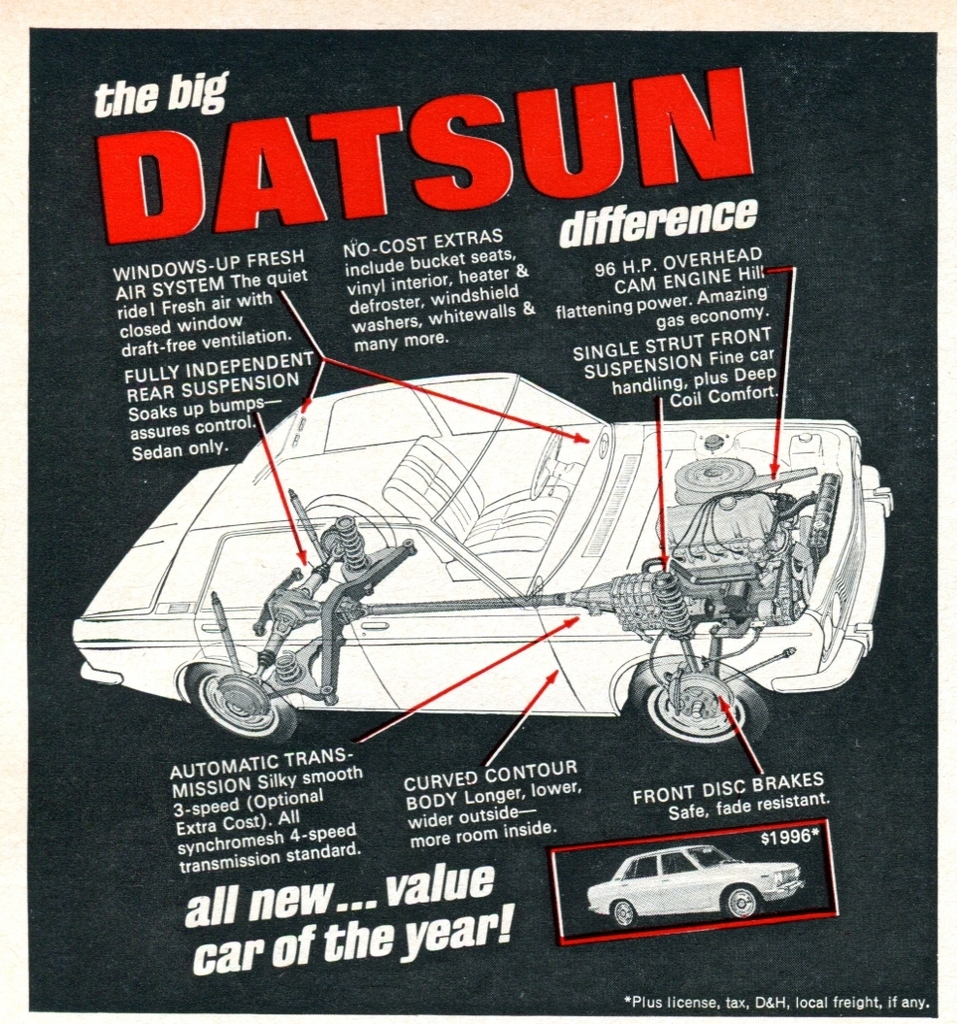Car: (66, 363, 899, 752), (584, 844, 807, 920)
